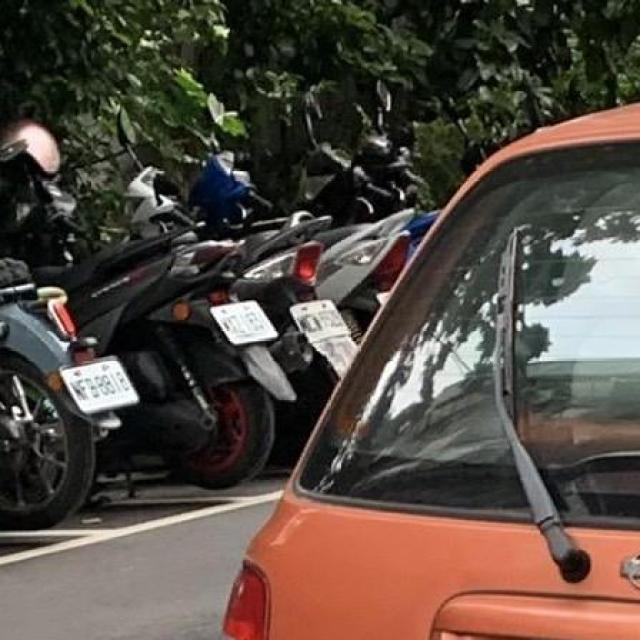W: (55, 353, 142, 416), (204, 291, 282, 350), (286, 289, 354, 344)
